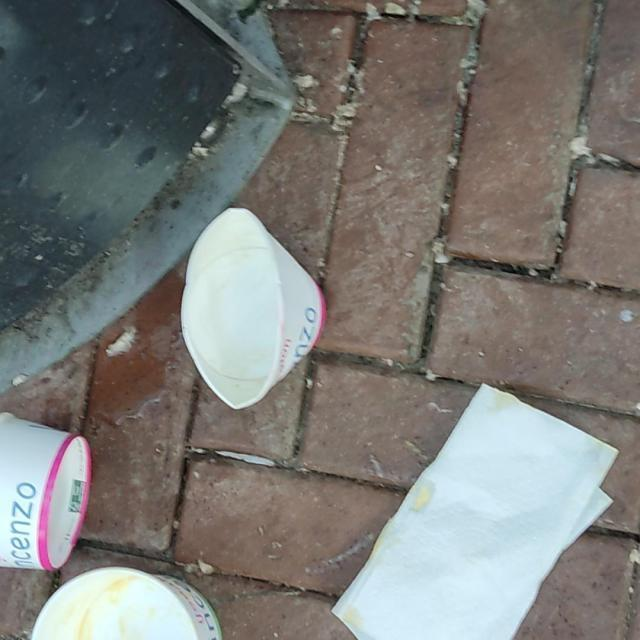Paper: (178, 205, 328, 412), (24, 564, 225, 640), (0, 409, 93, 573)
